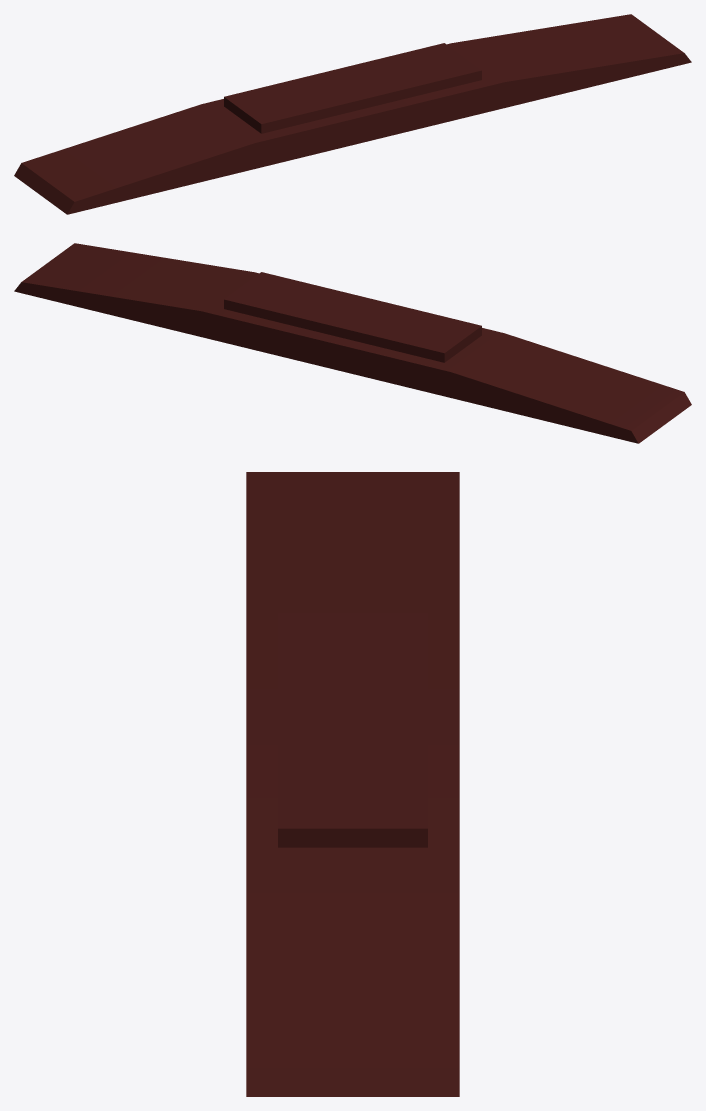
The model's file is Itr_Obj_Monitor_LCD_Base_02.FBX.
The picture shows the model from 3 angles, top to bottom: view 1: azimuth 30°, elevation 25°; view 2: azimuth 150°, elevation 25°; view 3: azimuth 270°, elevation 25°; orthographic projection. The views are drawn at different scales.
Parts seen in each view (by area): view 1: Itr_Obj_Monitor_LCD_Base_02; view 2: Itr_Obj_Monitor_LCD_Base_02; view 3: Itr_Obj_Monitor_LCD_Base_02.
Boxes of the visible parts, x1,y1,x2,y2 form: Itr_Obj_Monitor_LCD_Base_02: [14, 14, 691, 214]; Itr_Obj_Monitor_LCD_Base_02: [14, 243, 691, 443]; Itr_Obj_Monitor_LCD_Base_02: [246, 472, 459, 1096].
Bounding box in the file's own units: 38.49 × 2.09 × 5.68.
